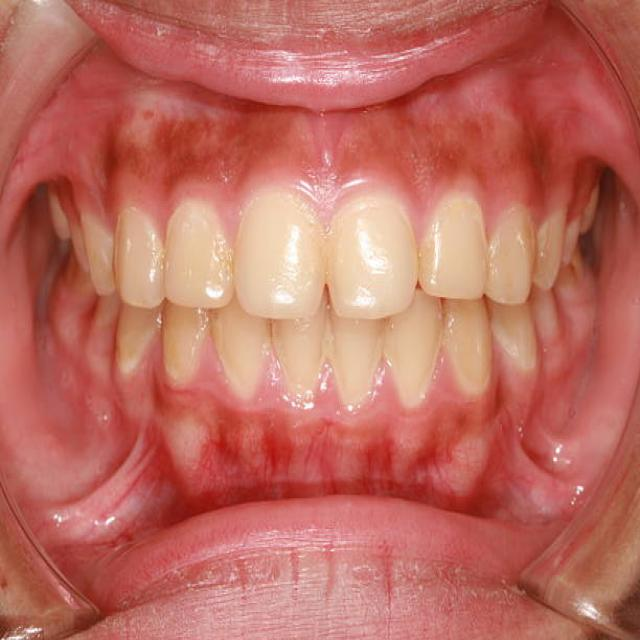Gingivitis: (156, 399, 528, 513), (414, 108, 549, 195), (130, 111, 277, 183)
